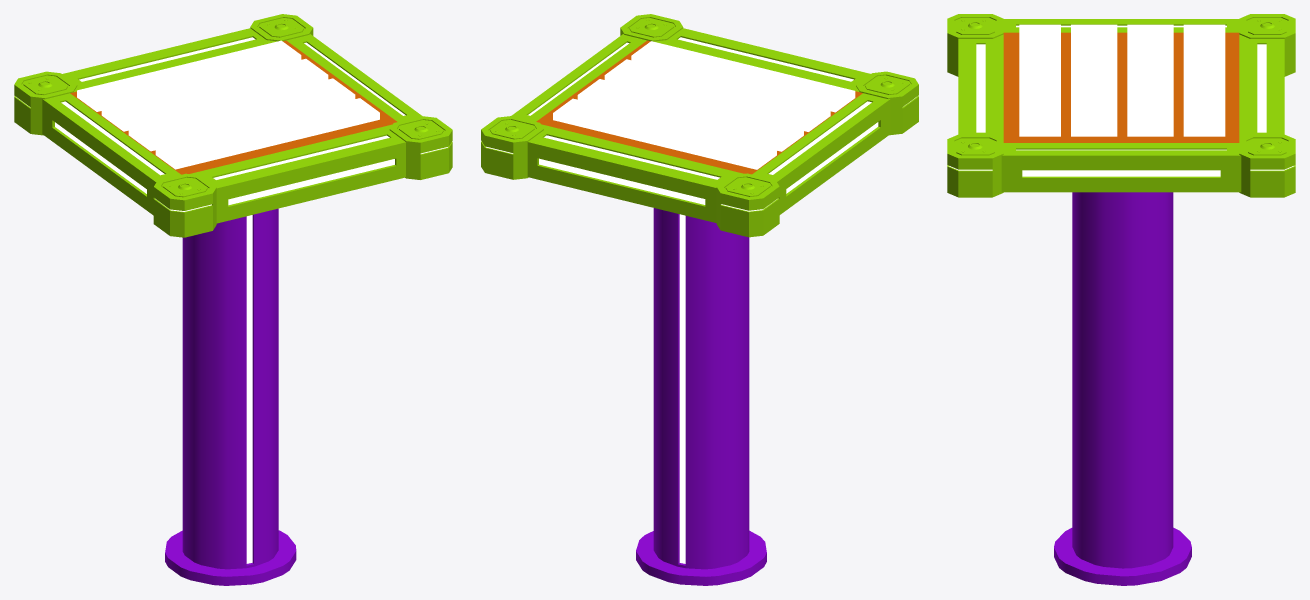
Rendered from DokingSpacePAN1.fbx.
3 renders of one model, left to right at view 1: azimuth 30°, elevation 25°; view 2: azimuth 150°, elevation 25°; view 3: azimuth 270°, elevation 25°, orthographic. The views are drawn at different scales.
Parts seen in each view (by area): view 1: Cylinder.034, Circle.012, Cube.051; view 2: Cylinder.034, Circle.012, Cube.051; view 3: Cylinder.034, Circle.012, Cube.051.
Part boxes in pixels (box(x1,y1,x2,y2)): Cylinder.034: box(165, 208, 296, 585); Circle.012: box(14, 14, 452, 237); Cube.051: box(16, 37, 447, 563); Cylinder.034: box(636, 208, 766, 585); Circle.012: box(481, 14, 918, 237); Cube.051: box(486, 37, 916, 563); Cylinder.034: box(1054, 192, 1191, 585); Circle.012: box(947, 14, 1295, 197); Cube.051: box(949, 24, 1293, 176).
Bounding box in the file's own units: 564 × 872 × 575.
